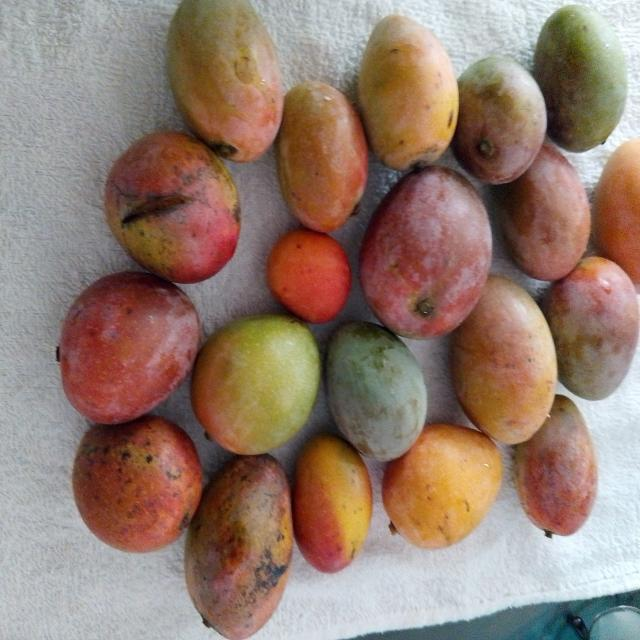mango: (360, 167, 491, 338), (59, 272, 200, 423), (105, 132, 240, 283), (185, 455, 293, 639), (168, 0, 283, 162), (191, 315, 320, 454), (451, 276, 557, 444), (73, 416, 202, 552), (358, 15, 458, 170), (382, 424, 502, 548), (276, 81, 368, 232), (542, 257, 639, 400), (533, 5, 627, 152), (326, 322, 426, 460), (494, 144, 590, 281), (452, 56, 546, 184), (514, 395, 597, 536), (292, 434, 372, 572), (266, 222, 354, 319), (594, 139, 639, 290)
